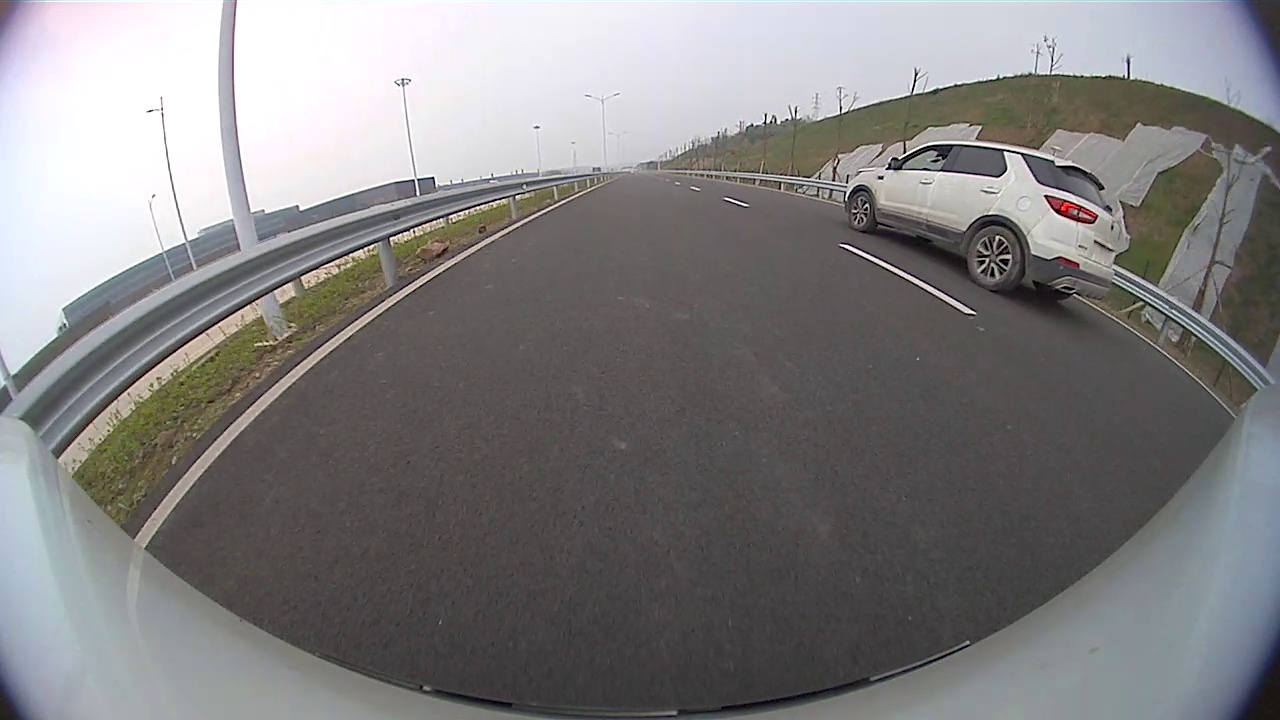car: (843, 139, 1119, 300)
front: (847, 188, 878, 235)
rear: (965, 223, 1027, 294)
